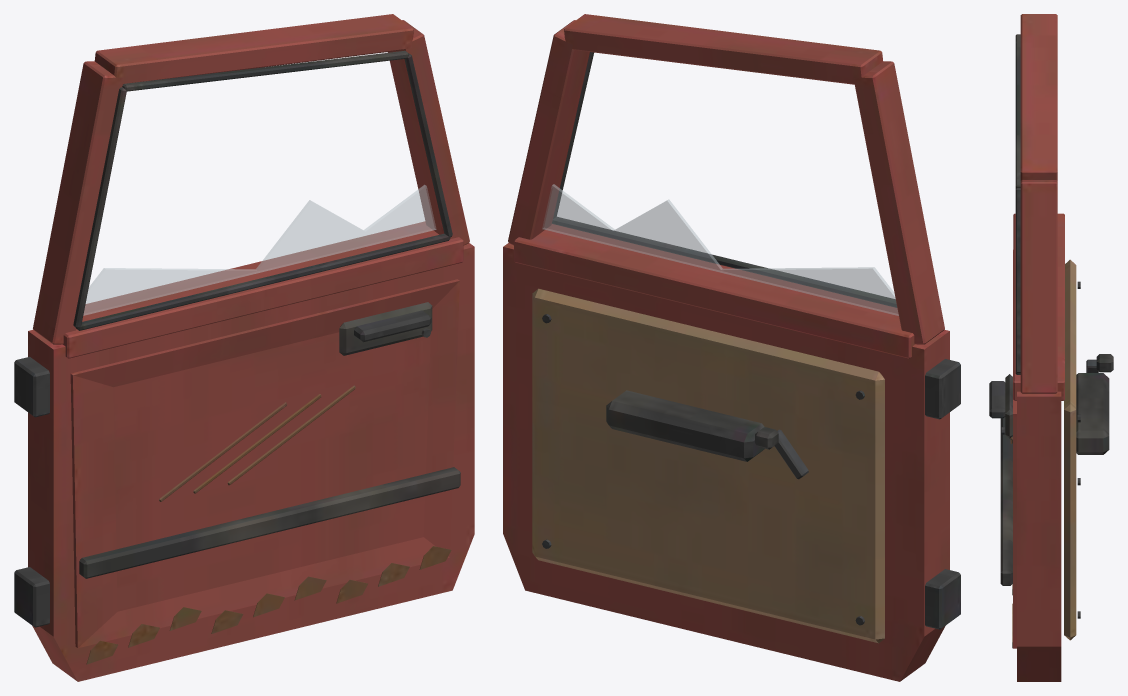
Rendered from JV13_detached_car_doors_v3.glb.
3 views of the same model, side by side, from view 1: azimuth 30°, elevation 25°; view 2: azimuth 150°, elevation 25°; view 3: azimuth 270°, elevation 25° (orthographic). The views are drawn at different scales.
Visible parts, largest first — view 1: Folded door shell; view 2: Folded door shell; view 3: Folded door shell.
Boxes of the visible parts, box(x1,y1,x2,y2) form: Folded door shell: box(14, 14, 474, 681); Folded door shell: box(503, 14, 960, 681); Folded door shell: box(989, 14, 1113, 681).
Size of the model in its own units: 0.9075 by 1.2 by 0.2574.
6 materials, 5 textured.
